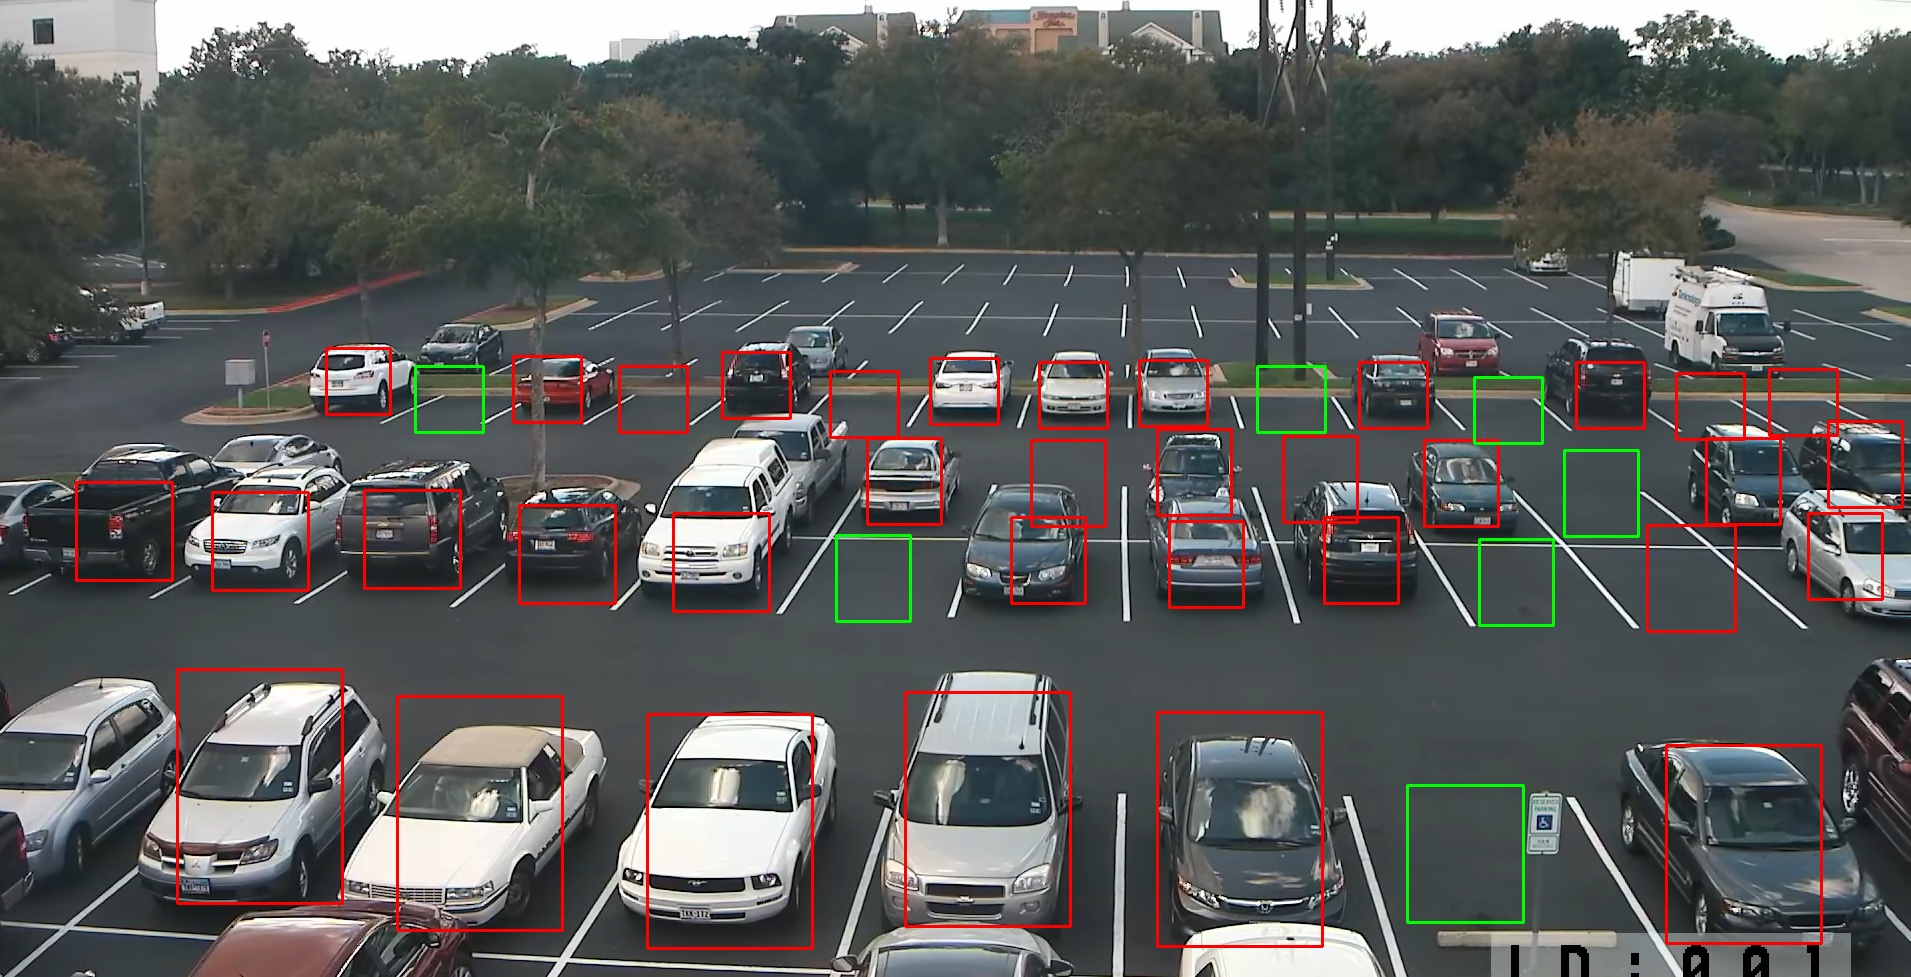spot: (904, 692, 1070, 926), (647, 714, 812, 948), (177, 669, 343, 903), (1157, 712, 1322, 946), (397, 697, 562, 930), (1666, 745, 1821, 943), (1406, 785, 1524, 922), (519, 505, 615, 603), (364, 490, 460, 588), (1647, 525, 1735, 631), (673, 513, 769, 611), (212, 492, 308, 589), (76, 482, 172, 579), (1563, 450, 1638, 536), (1479, 540, 1553, 626), (1705, 437, 1780, 523), (1808, 513, 1882, 599), (1828, 421, 1902, 507), (1169, 521, 1243, 607), (1424, 440, 1497, 526), (1324, 517, 1398, 603), (1283, 436, 1357, 522), (1157, 429, 1231, 515), (1031, 440, 1105, 526), (1012, 517, 1085, 603), (836, 535, 909, 621), (867, 437, 941, 523), (415, 366, 483, 432), (830, 371, 898, 437), (1039, 361, 1107, 427), (1139, 360, 1207, 426), (1257, 366, 1325, 432), (1576, 361, 1644, 427), (1676, 373, 1744, 439), (1769, 369, 1837, 435), (513, 356, 581, 422), (619, 366, 686, 432), (723, 351, 790, 417), (931, 358, 998, 424), (1359, 361, 1426, 427), (1474, 378, 1542, 442), (326, 348, 390, 414)
